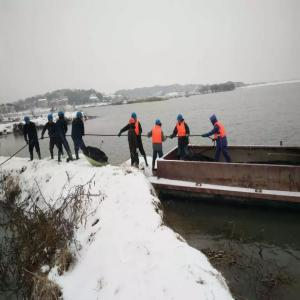blue: (177, 114, 184, 125), (77, 112, 84, 121), (25, 116, 31, 126), (48, 114, 54, 124), (132, 113, 138, 122), (156, 120, 162, 128), (59, 112, 65, 120)
red: (130, 119, 136, 129)
